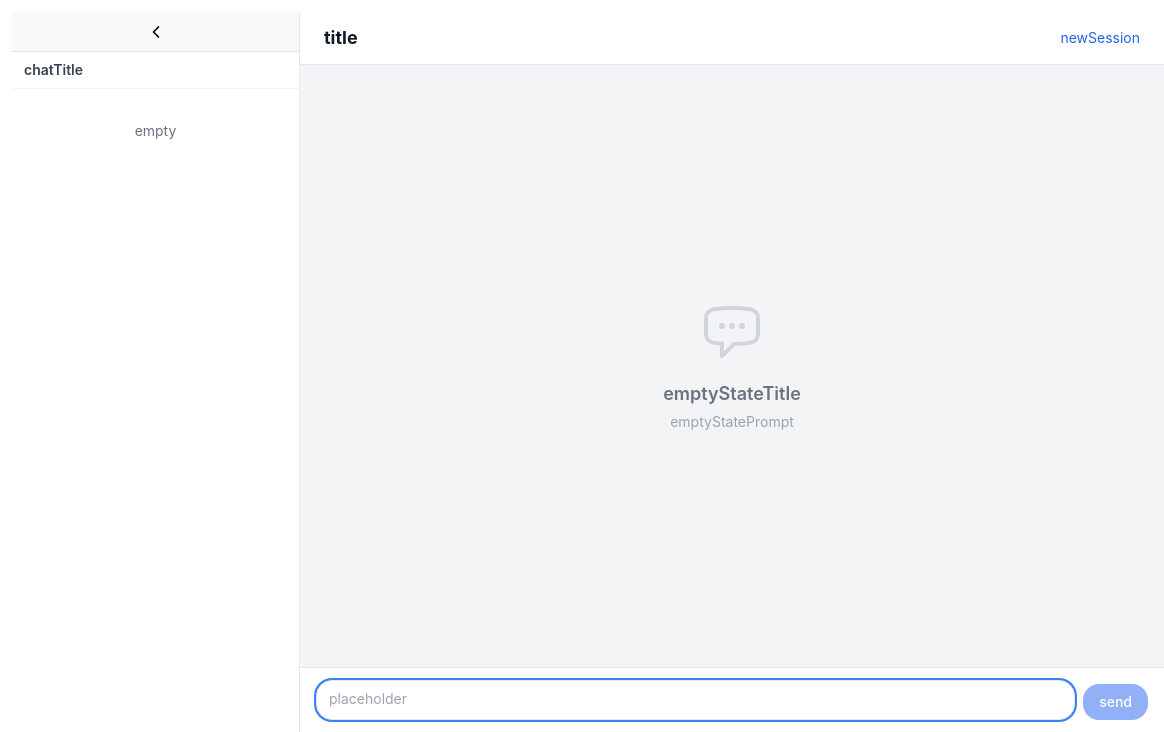
Chat Page Improvements › CopyButton Integration (Req 3.4, 3.5) › empty state disappears after sending a message
Expected: the element with test id "chat-empty-state" is shown, [663,300,801,430]
Send a message
Type "Hello" into the text box.
click(696, 700); type("Hello")  # box [316,680,1075,720]
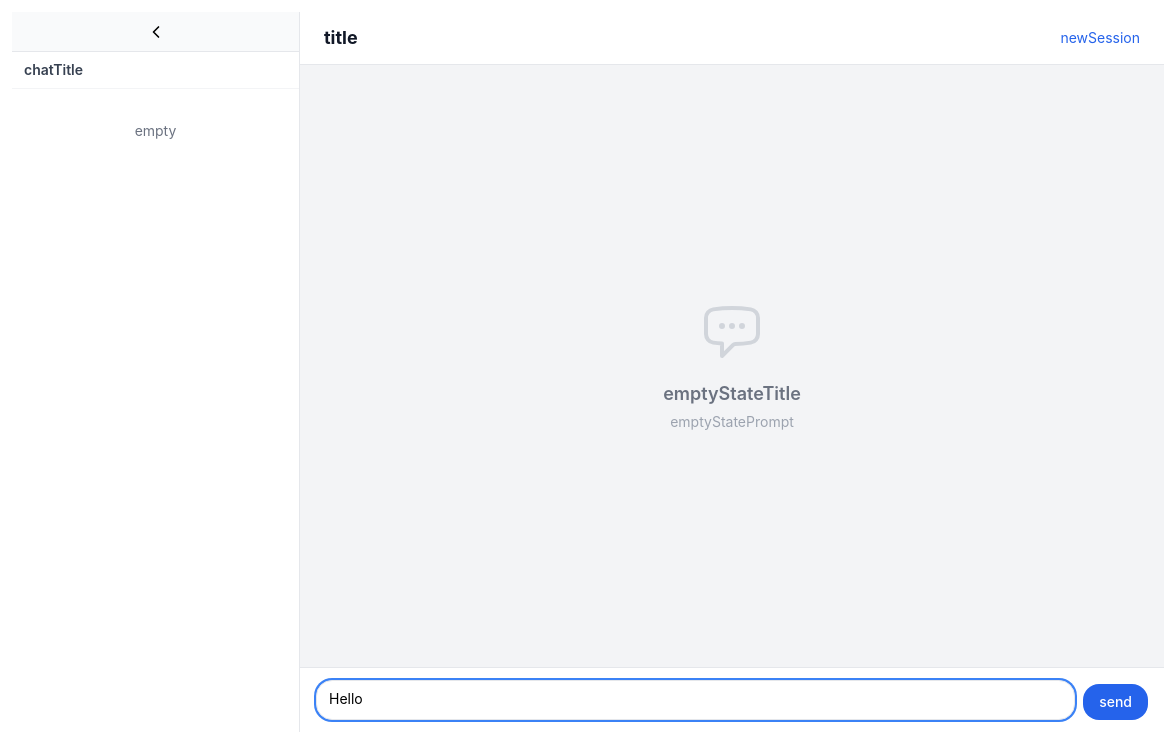
Click the button "send".
click(1116, 702)  # box [1083,684,1148,720]
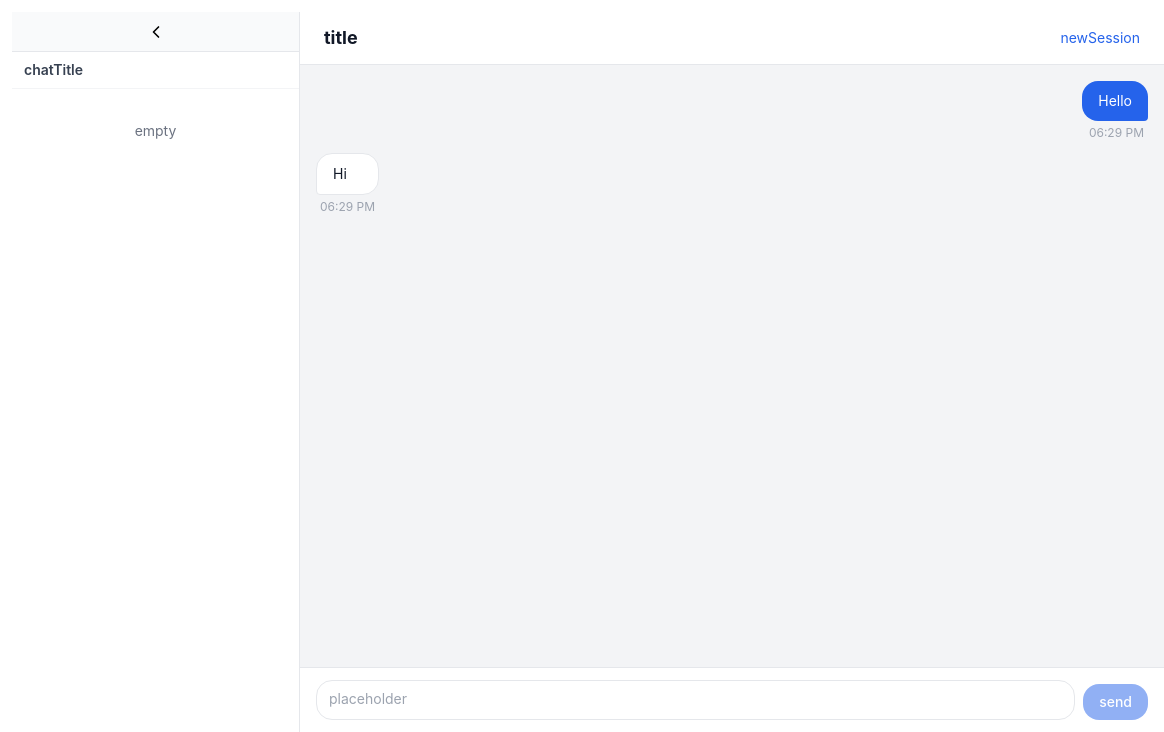
Now the element with test id "chat-empty-state" is gone
